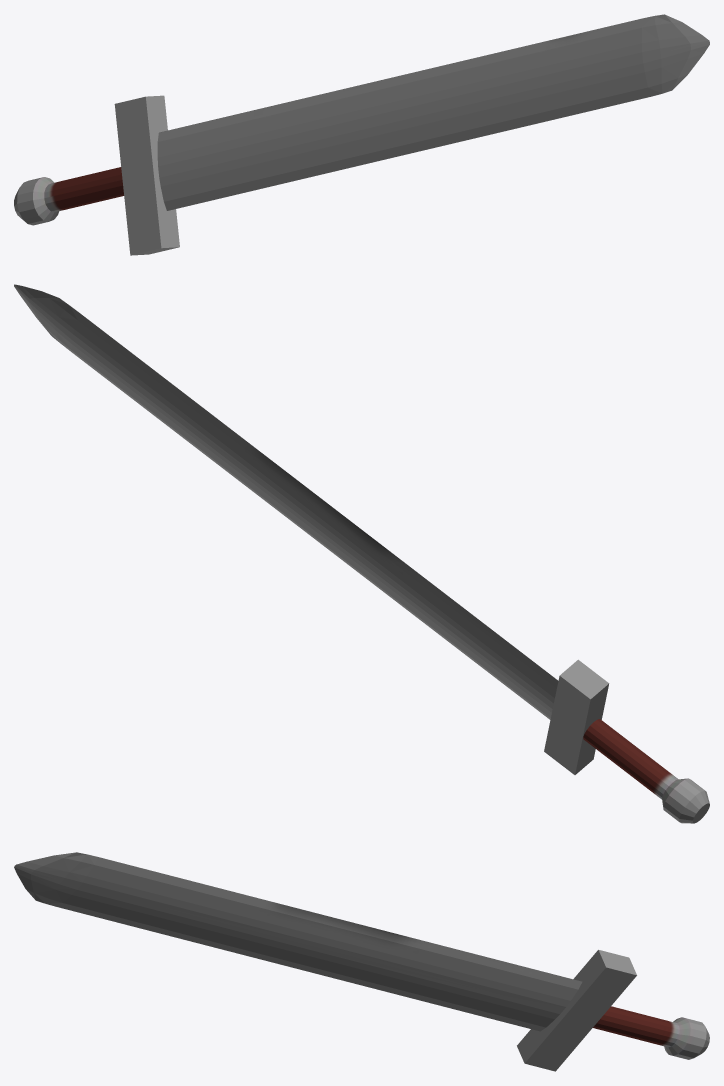
Rendered from mhw_joepal_crude_sword.glb.
The picture shows the model from 3 angles, top to bottom: view 1: azimuth 30°, elevation 25°; view 2: azimuth 210°, elevation 25°; view 3: azimuth 270°, elevation 25°; orthographic projection. The views are drawn at different scales.
Visible parts, largest first — view 1: mhw_joepal_crude_sword; view 2: mhw_joepal_crude_sword; view 3: mhw_joepal_crude_sword.
Part boxes in pixels (x1=…): mhw_joepal_crude_sword: x1=14, y1=14, x2=709, y2=255; mhw_joepal_crude_sword: x1=14, y1=284, x2=709, y2=823; mhw_joepal_crude_sword: x1=14, y1=852, x2=709, y2=1071.
Bounding box in the file's own units: 0.3518 × 0.3608 × 0.6496.
1 material, 1 textured.
